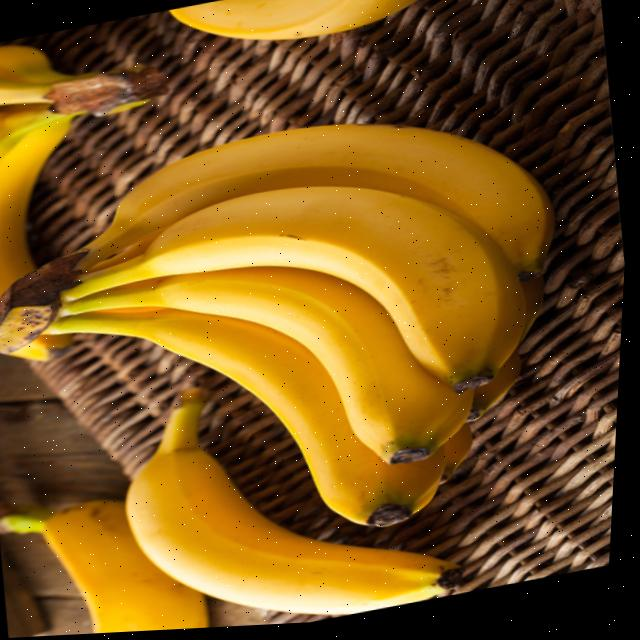Banana: (64, 189, 530, 397), (49, 309, 451, 527), (64, 268, 479, 468), (80, 127, 553, 283), (132, 449, 467, 618), (0, 45, 166, 301), (4, 501, 215, 635), (169, 0, 422, 42)
